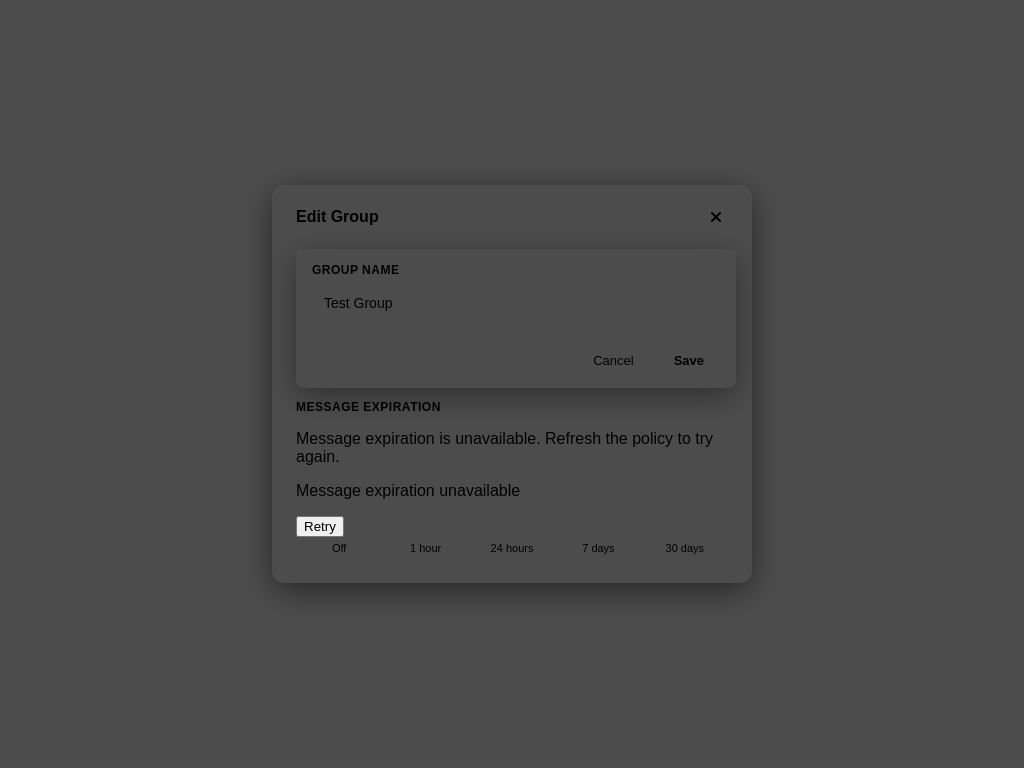
EditGroupModal › clears a pending save when auth lifecycle changes and ignores its response
Replace the text in the field with placeholder "Group Name (optional)" with "old-name" at (516, 303), box [312,287,720,319]
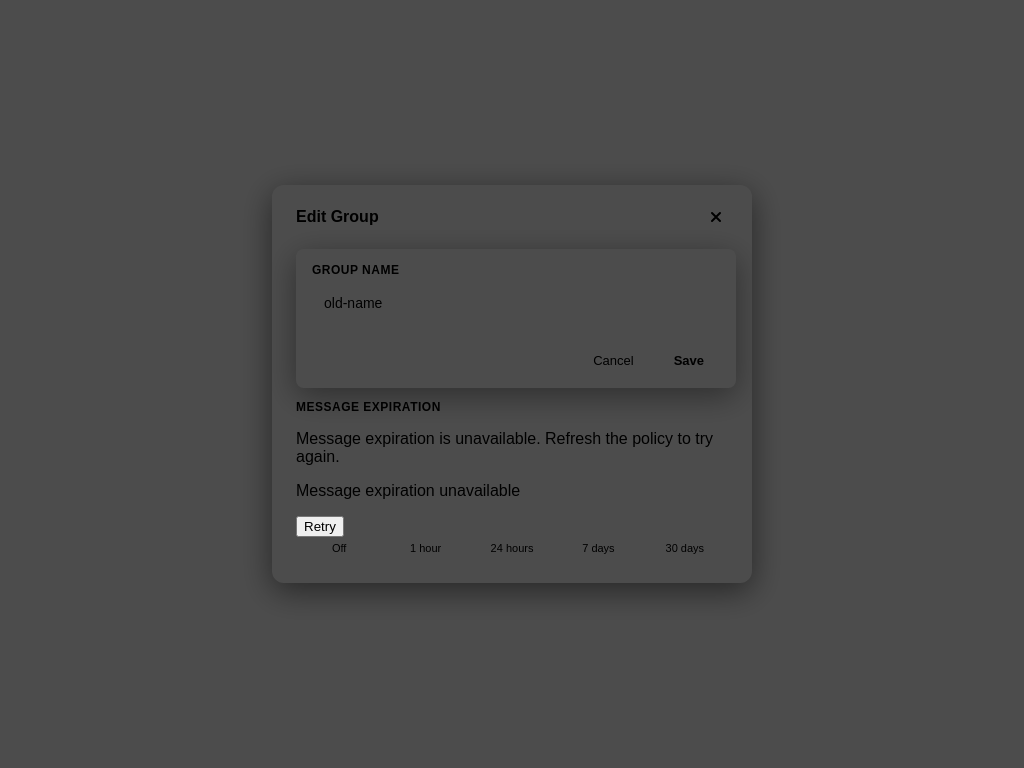
Click the button "Save" at (689, 360), box [658,345,720,376]
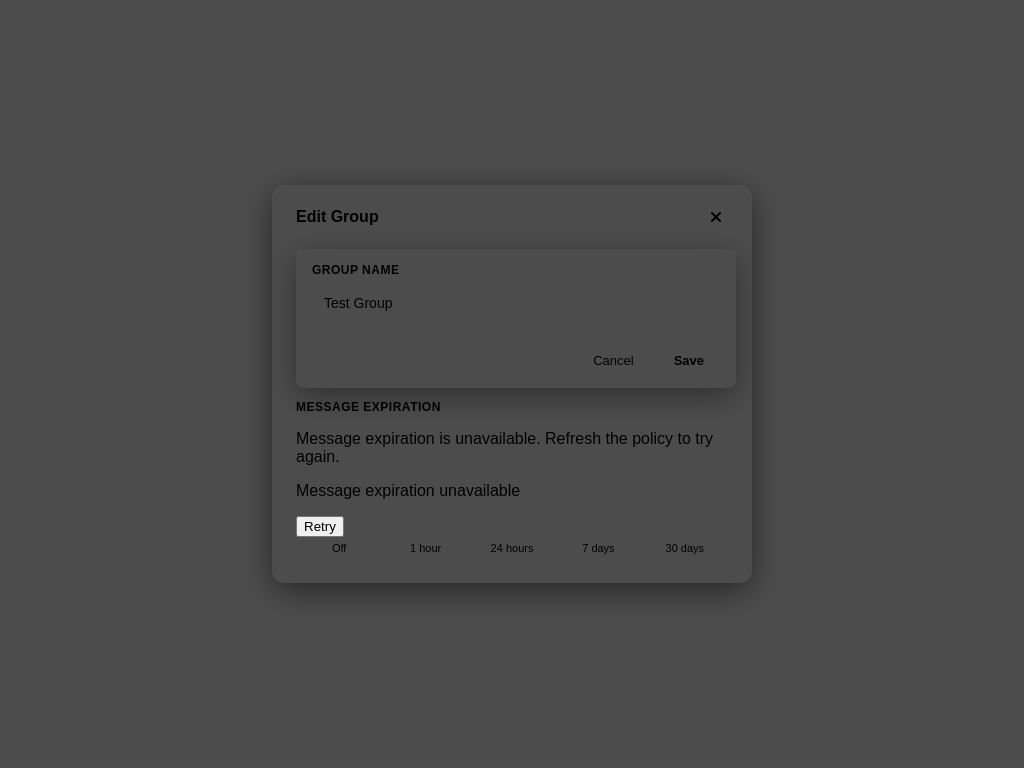
Check: the field with placeholder "Group Name (optional)" holds "Test Group", box [312,287,720,319]
